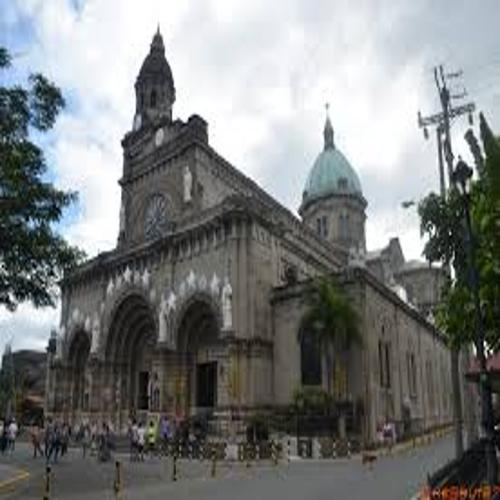Manila Cathedral Church: (31, 13, 455, 493)
